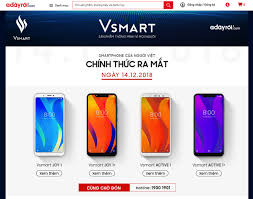vsmart: (31, 88, 68, 158), (84, 91, 121, 161), (139, 89, 176, 159), (190, 92, 226, 158)
